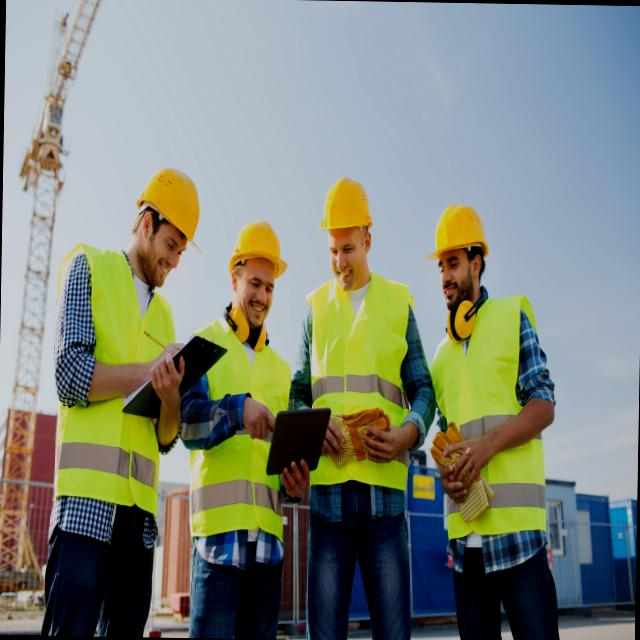helmet: (130, 152, 209, 252), (421, 200, 490, 261), (322, 171, 379, 239), (228, 217, 290, 277)
vest: (60, 250, 170, 542), (426, 298, 546, 552), (196, 312, 294, 558), (306, 282, 406, 502)
